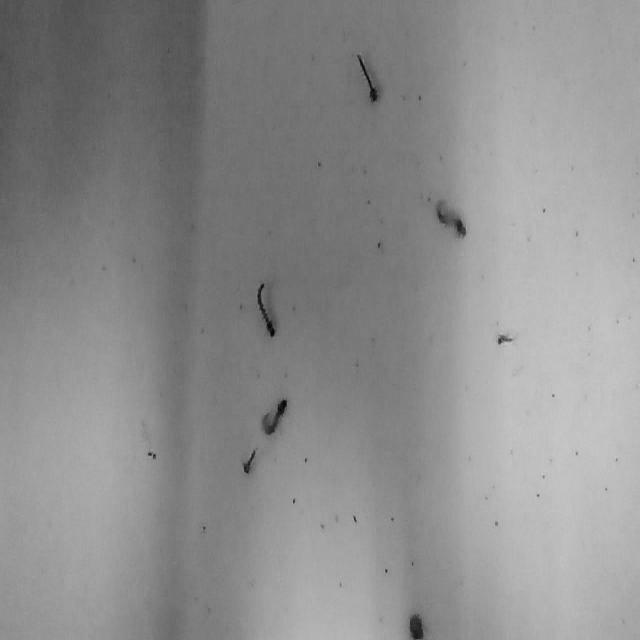larvas: (255, 280, 276, 339), (435, 198, 467, 236), (356, 50, 378, 104), (261, 397, 287, 434), (408, 612, 424, 640), (242, 447, 256, 475), (497, 331, 517, 344)
